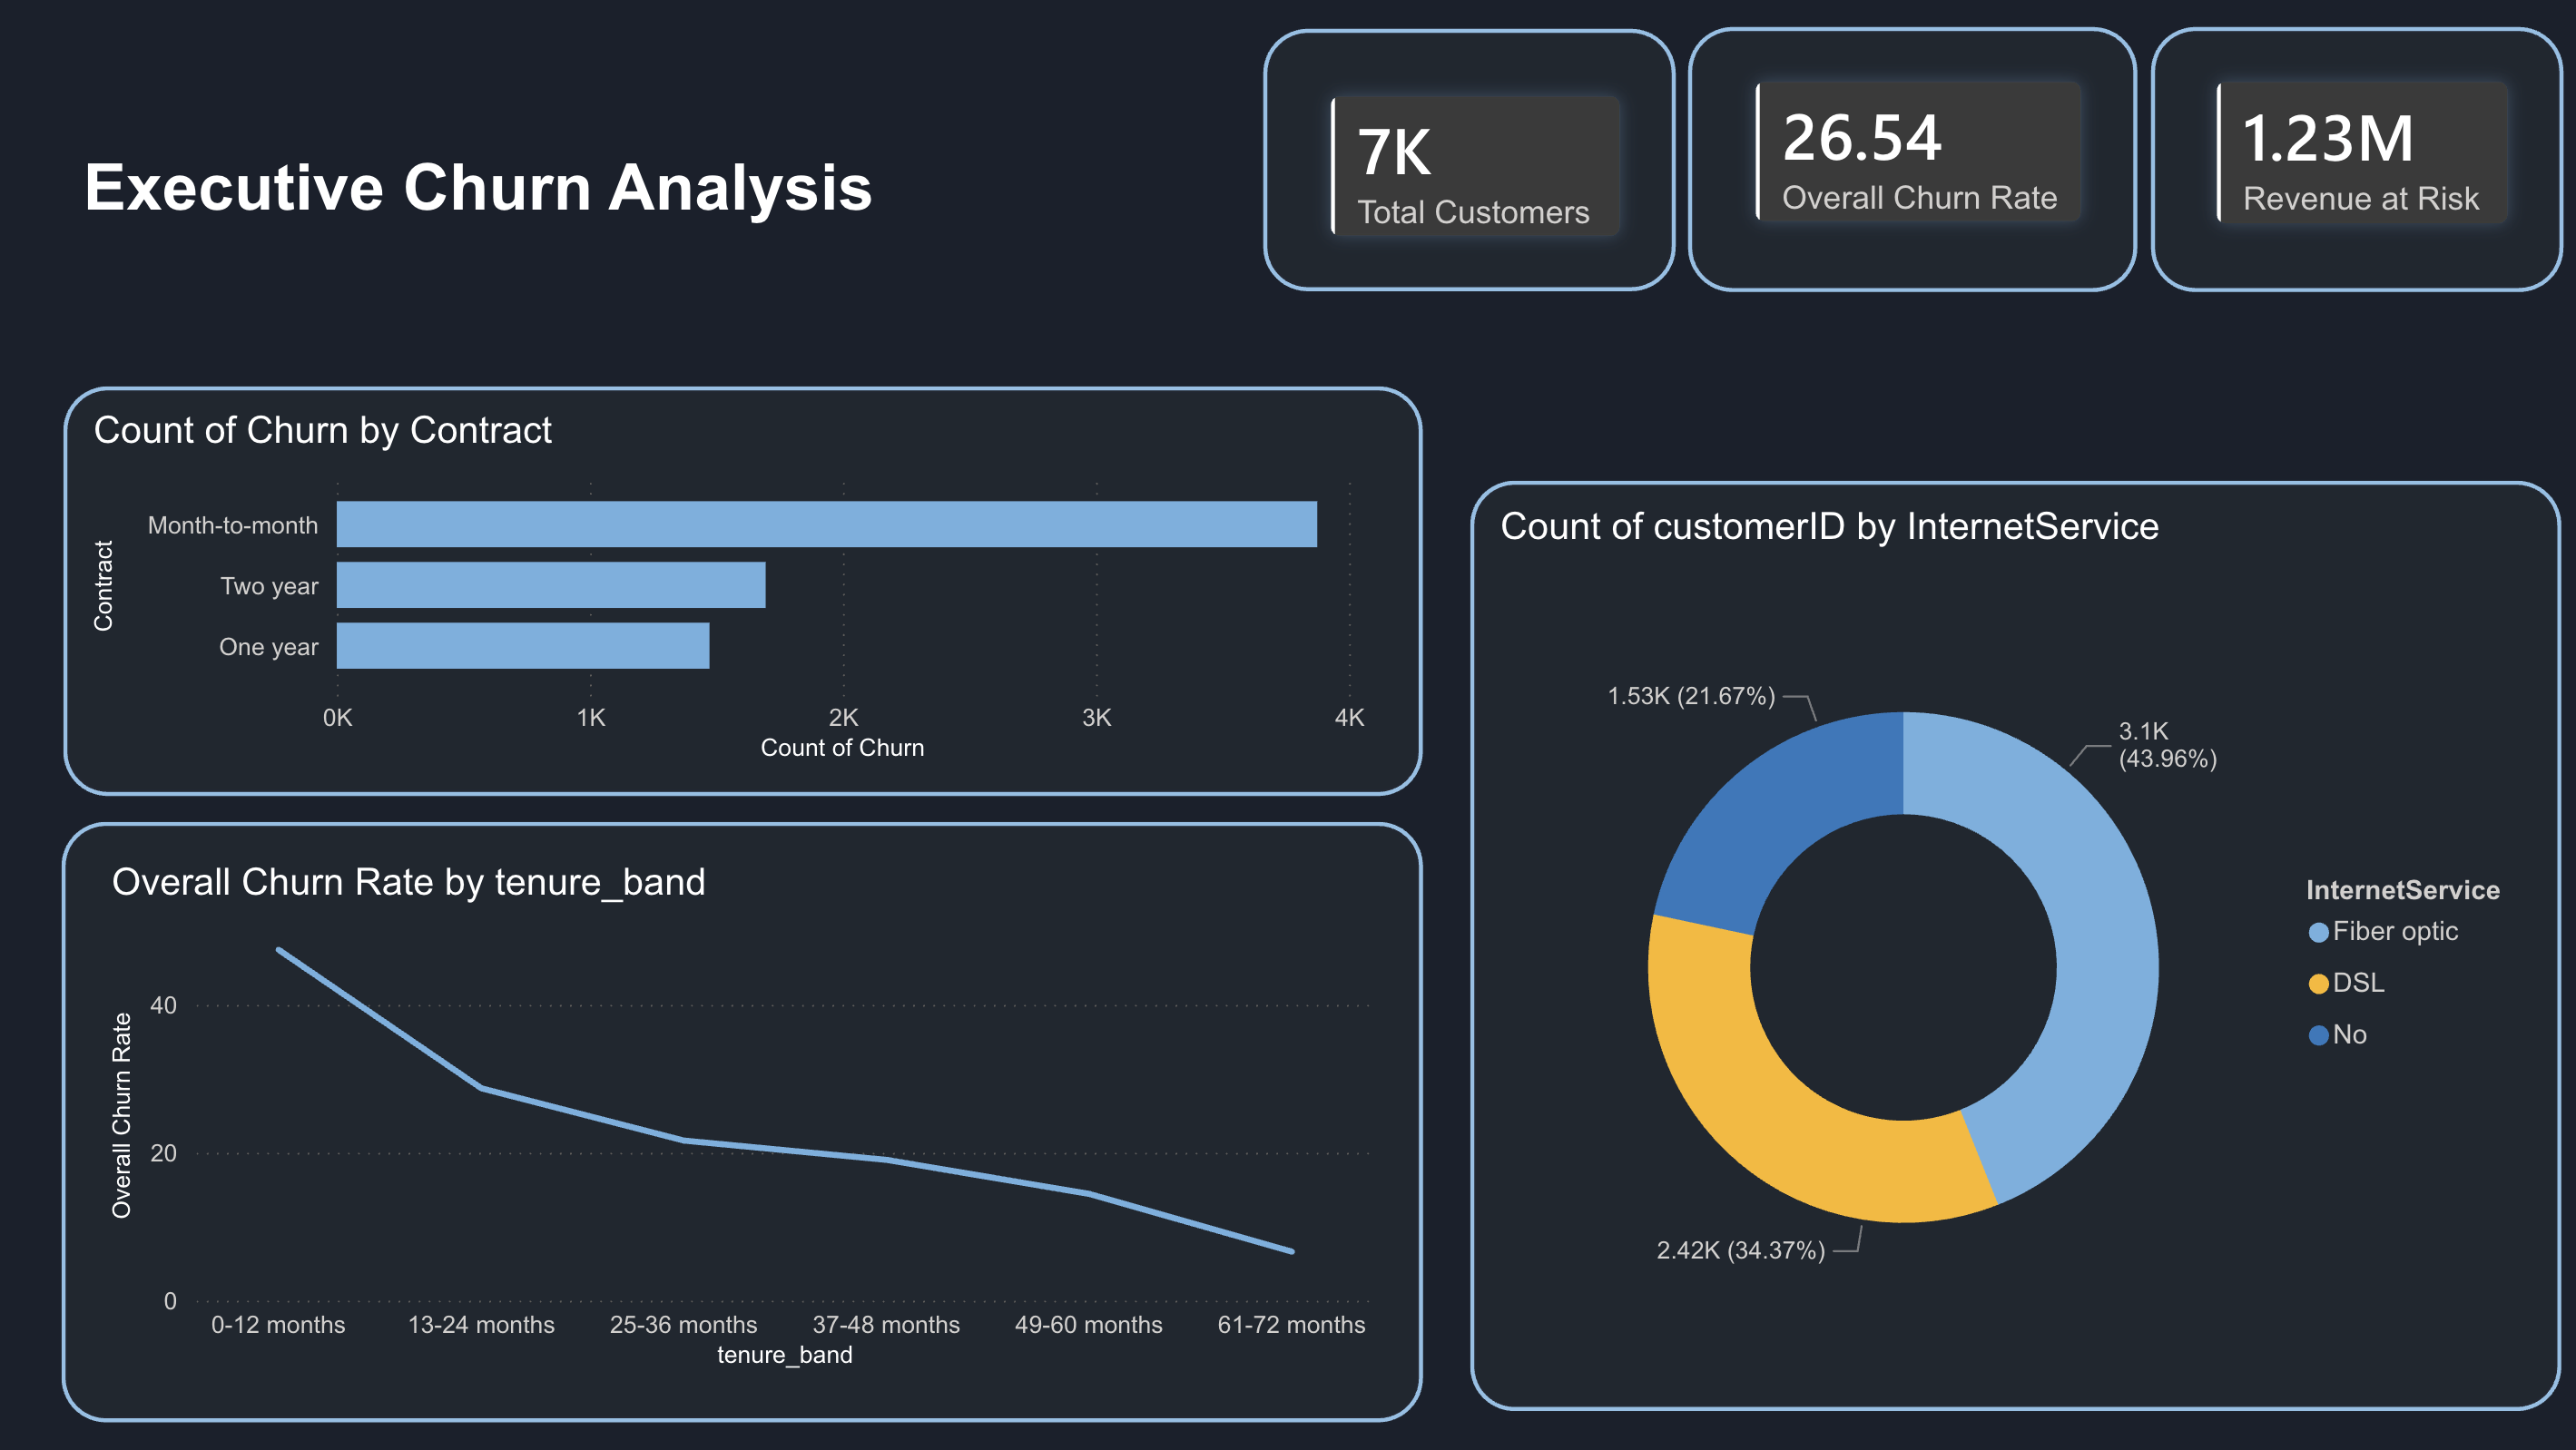

Layout of this report page (visuals, bound fields, positions):
{"tool":"powerbi","page":{"name":"Executive Overview","canvas":[1280,720],"ordinal":0},"visuals":[{"type":"shape","box":[836.6,12.4,224.2,133],"z":0},{"type":"shape","box":[1066.1,12.4,205.9,133],"z":1000},{"type":"shape","box":[31.3,190.3,675.2,204.6],"z":2000},{"type":"shape","box":[728.6,237.2,542.2,462.7],"z":3000},{"type":"shape","box":[30.2,406.1,676.2,299.2],"z":4000},{"type":"shape","box":[625.7,13.6,205.9,131.6],"z":5000},{"type":"cardVisual","fields":{"Data":["telco_churn_final.Total Customers"]},"box":[632.2,20.1,199.4,125.1],"z":6000},{"type":"cardVisual","fields":{"Data":["telco_churn_final.Overall Churn Rate"]},"box":[843.2,12.4,217.7,125.1],"z":7000},{"type":"clusteredBarChart","fields":{"Category":["telco_churn_final.Contract"],"Y":["CountNonNull(telco_churn_final.Churn)"]},"box":[41.8,202.3,640,179.9],"z":8000},{"type":"donutChart","fields":{"Category":["telco_churn_final.InternetService"],"Y":["CountNonNull(telco_churn_final.customerID)"]},"box":[739.1,250.3,521.4,438],"z":9000},{"type":"lineChart","fields":{"Category":["telco_churn_final.tenure_band"],"Y":["telco_churn_final.Overall Churn Rate"]},"box":[50.8,426.2,640,256.8],"z":10000},{"type":"textbox","box":[31.3,69.1,413.2,50.8],"z":11000},{"type":"cardVisual","fields":{"Data":["telco_churn_final.Revenue at Risk"]},"box":[1071.3,12.4,200.7,126.4],"z":12000}]}

Visuals, with their boxes in screenshot pixels (x1, y1, x2, y2), scaled from the page's 1280x720 canvas onto the 2576x1450 screenshot:
shape: bbox=[1684, 25, 2135, 293]
shape: bbox=[2146, 25, 2560, 293]
shape: bbox=[63, 383, 1421, 795]
shape: bbox=[1466, 477, 2558, 1409]
shape: bbox=[61, 818, 1421, 1420]
shape: bbox=[1259, 27, 1674, 292]
cardVisual - telco_churn_final.Total Customers: bbox=[1273, 41, 1674, 292]
cardVisual - telco_churn_final.Overall Churn Rate: bbox=[1697, 25, 2135, 277]
clusteredBarChart - telco_churn_final.Contract x CountNonNull(telco_churn_final.Churn): bbox=[84, 407, 1372, 769]
donutChart - telco_churn_final.InternetService x CountNonNull(telco_churn_final.customerID): bbox=[1488, 505, 2537, 1386]
lineChart - telco_churn_final.tenure_band x telco_churn_final.Overall Churn Rate: bbox=[103, 858, 1391, 1376]
textbox: bbox=[63, 139, 895, 241]
cardVisual - telco_churn_final.Revenue at Risk: bbox=[2156, 25, 2560, 279]
